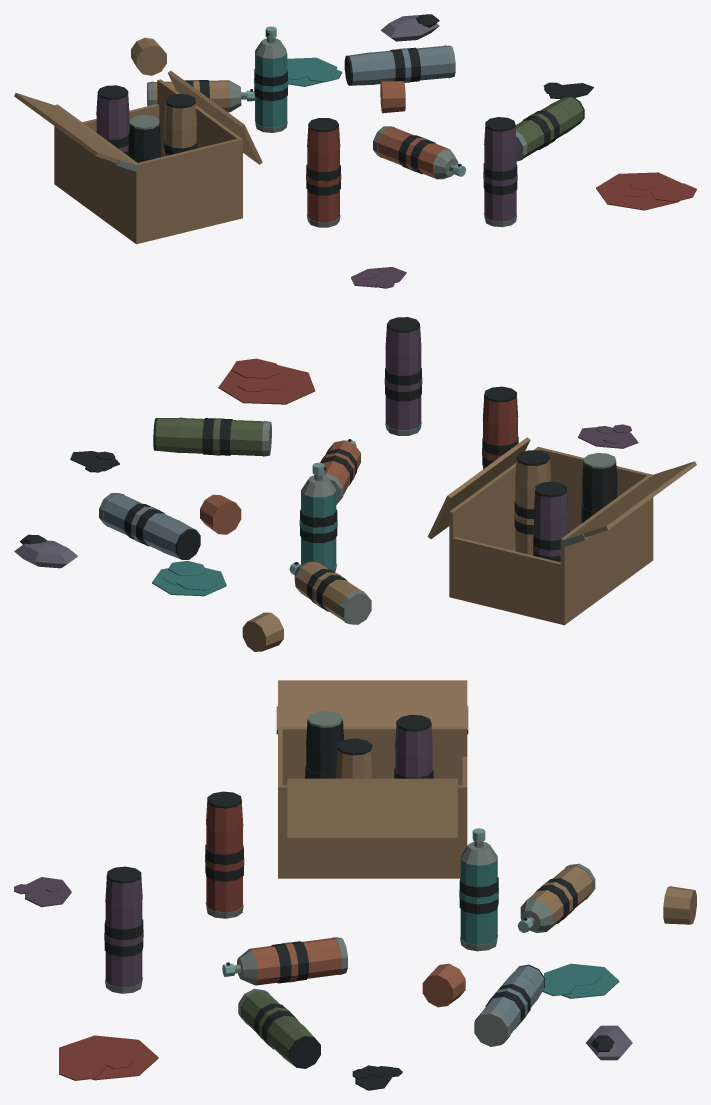
The model's file is spray_jos.glb.
The picture shows the model from 3 angles, top to bottom: view 1: azimuth 30°, elevation 25°; view 2: azimuth 150°, elevation 25°; view 3: azimuth 270°, elevation 25°; orthographic projection. The views are drawn at different scales.
Parts seen in each view (by area): view 1: SprayJos; view 2: SprayJos; view 3: SprayJos.
Part boxes in pixels (<box>): SprayJos: <box>14,14,696,288</box>; SprayJos: <box>14,317,696,651</box>; SprayJos: <box>14,680,696,1090</box>.
Bounding box in the file's own units: 1.21 × 0.2177 × 1.15.
